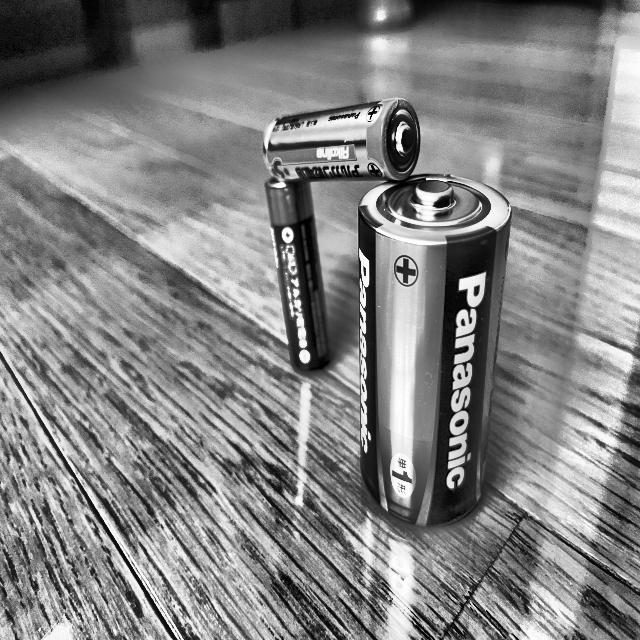drycell: (343, 166, 524, 545), (254, 162, 338, 376)
